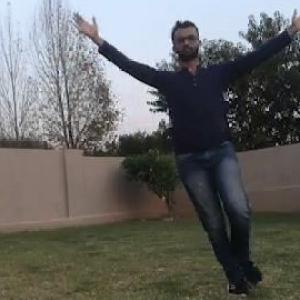takeoff: (80, 8, 299, 290)
